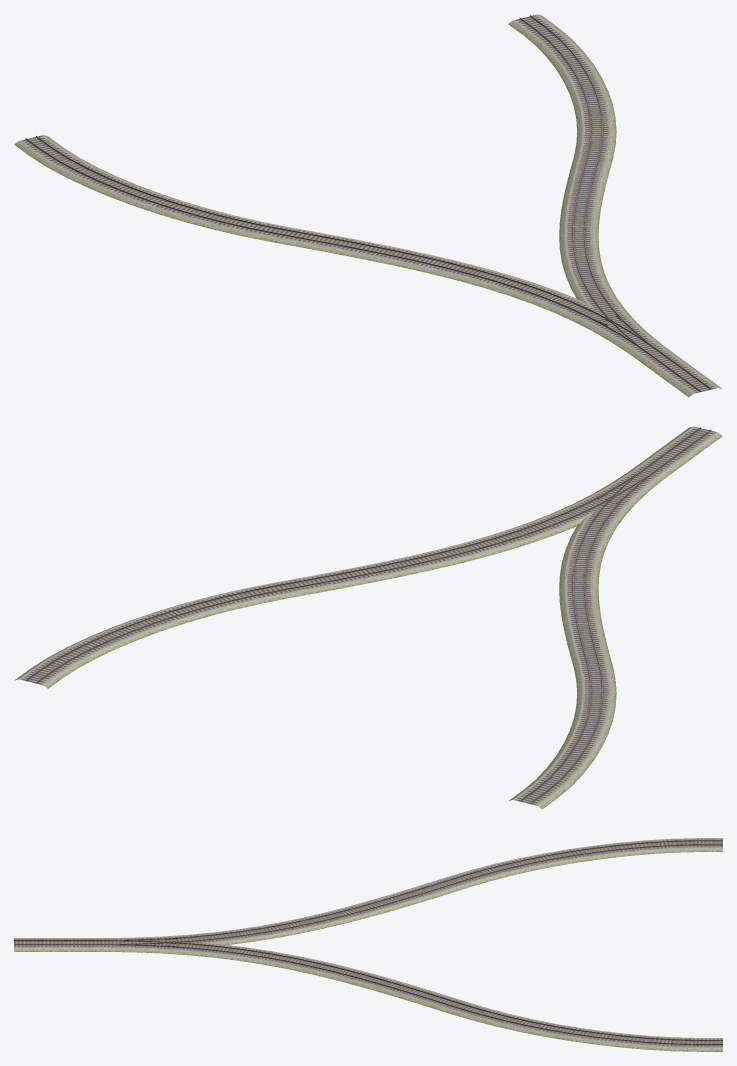
Rendered from Tr_FFork.fbx.
3 renders of one model, top to bottom at view 1: azimuth 30°, elevation 25°; view 2: azimuth 150°, elevation 25°; view 3: azimuth 270°, elevation 25°, orthographic. The views are drawn at different scales.
Parts seen in each view (by area): view 1: U3DMesh; view 2: U3DMesh; view 3: U3DMesh.
Boxes of the visible parts, left/top/right/bottom form: U3DMesh: left=14, top=14, right=721, bottom=397; U3DMesh: left=14, top=426, right=722, bottom=809; U3DMesh: left=14, top=838, right=722, bottom=1051.
Size of the model in its own units: 68.42 by 0.4496 by 96.
